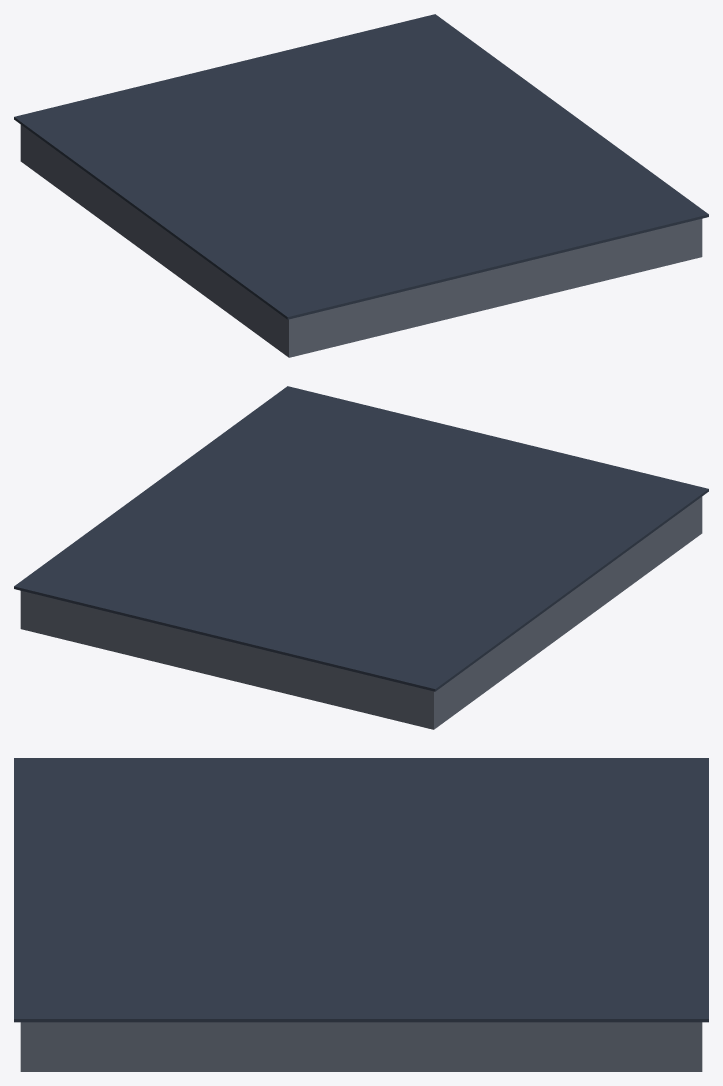
File: motorsportPark.glb
3 renders of one model, top to bottom at view 1: azimuth 30°, elevation 25°; view 2: azimuth 150°, elevation 25°; view 3: azimuth 270°, elevation 25°, orthographic. The views are drawn at different scales.
Parts seen in each view (by area): view 1: motorsportPark; view 2: motorsportPark; view 3: motorsportPark.
Part boxes in pixels (x1,y1,x2,y2): motorsportPark: (14,14,708,357); motorsportPark: (14,386,708,729); motorsportPark: (14,758,708,1071).
Size of the model in its own units: 20.4 by 2.02 by 22.95.
